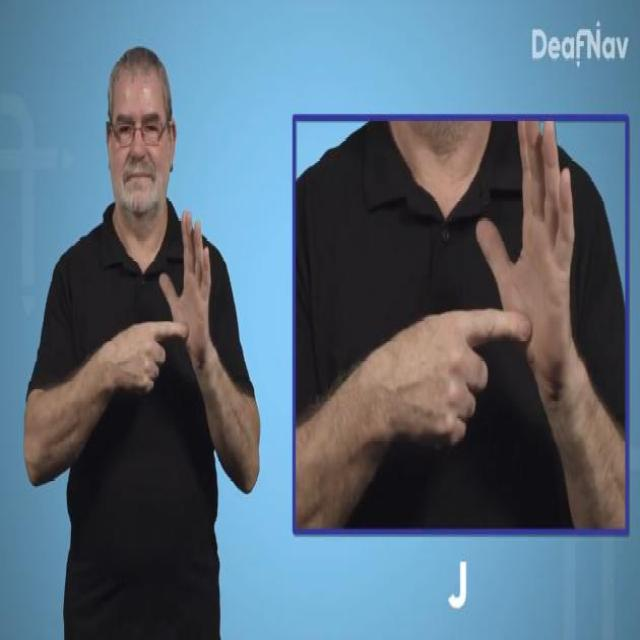J: (436, 121, 579, 456), (108, 211, 216, 407)
